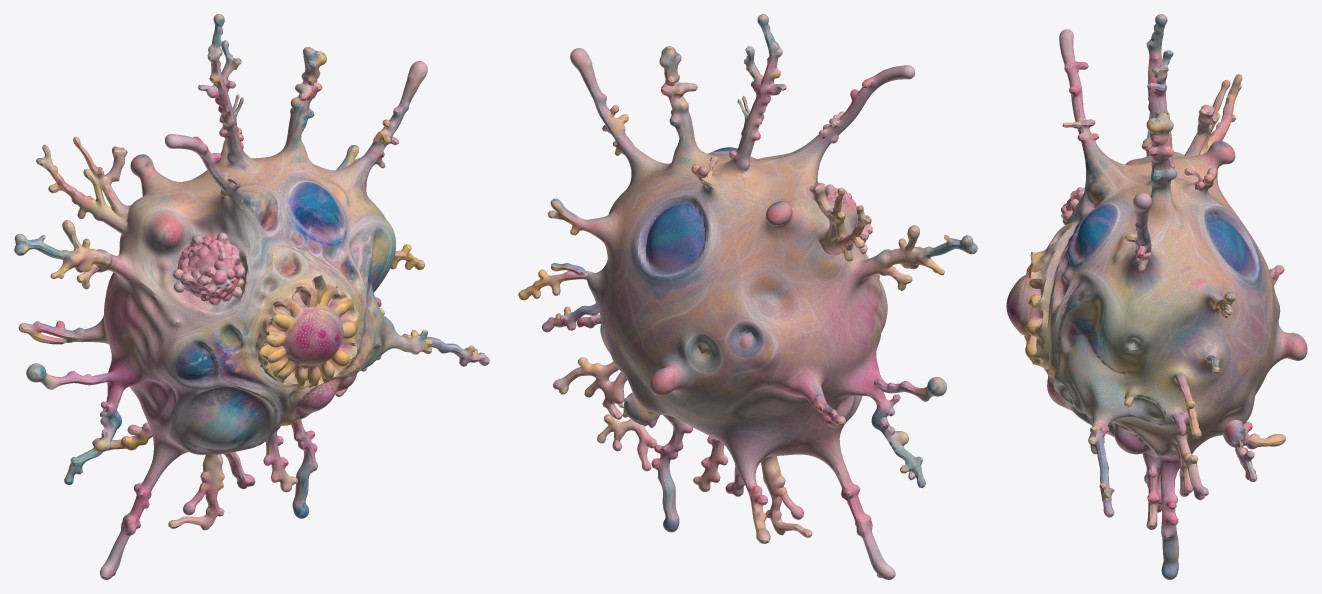
The model's file is spore-quad.glb.
3 renders of one model, left to right at view 1: azimuth 30°, elevation 25°; view 2: azimuth 150°, elevation 25°; view 3: azimuth 270°, elevation 25°, orthographic. The views are drawn at different scales.
Visible parts, largest first — view 1: Mesh_0; view 2: Mesh_0; view 3: Mesh_0.
Boxes of the visible parts, bbox=[...] form: Mesh_0: bbox=[14, 14, 489, 579]; Mesh_0: bbox=[518, 14, 977, 579]; Mesh_0: bbox=[1006, 14, 1307, 579].
Size of the model in its own units: 1.69 by 1.9 by 0.9841.
1 material, 1 textured.
